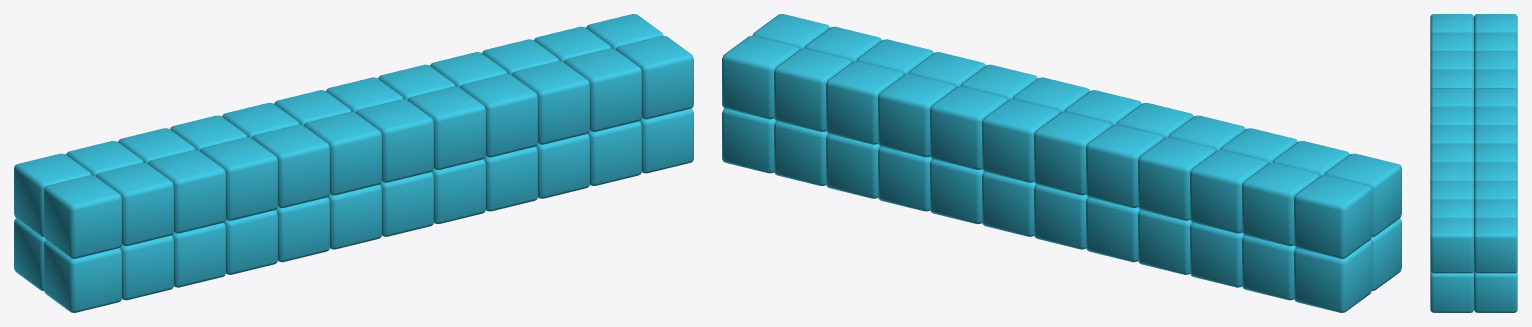
Rendered from obstacle1.glb.
3 views of the same model, side by side, from view 1: azimuth 30°, elevation 25°; view 2: azimuth 150°, elevation 25°; view 3: azimuth 270°, elevation 25° (orthographic). The views are drawn at different scales.
Parts seen in each view (by area): view 1: Object_8; view 2: Object_8; view 3: Object_8.
Boxes of the visible parts, left/top/right/bottom form: Object_8: left=14, top=14, right=693, bottom=312; Object_8: left=722, top=14, right=1401, bottom=312; Object_8: left=1430, top=14, right=1517, bottom=312.
Bounding box in the file's own units: 50.43 × 8.38 × 8.38.
